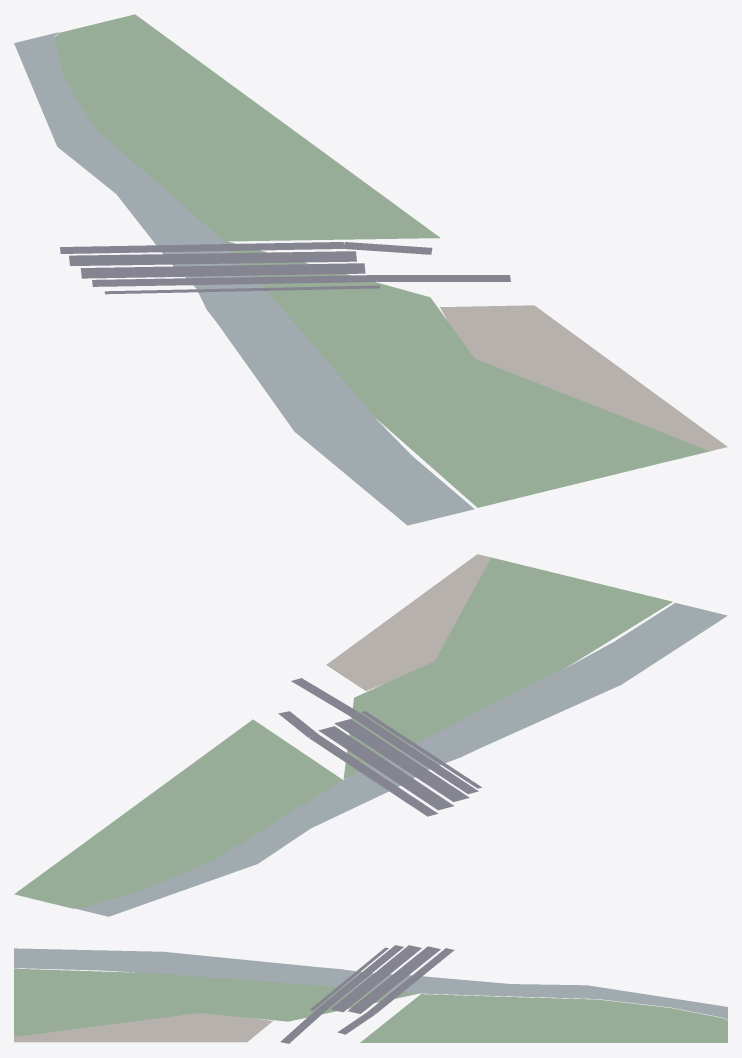
File: 98_90_mid.glb
3 views of the same model, one above another, from view 1: azimuth 30°, elevation 25°; view 2: azimuth 150°, elevation 25°; view 3: azimuth 270°, elevation 25° (orthographic). The views are drawn at different scales.
Bounding box in the file's own units: 161 × 3.39 × 500.
